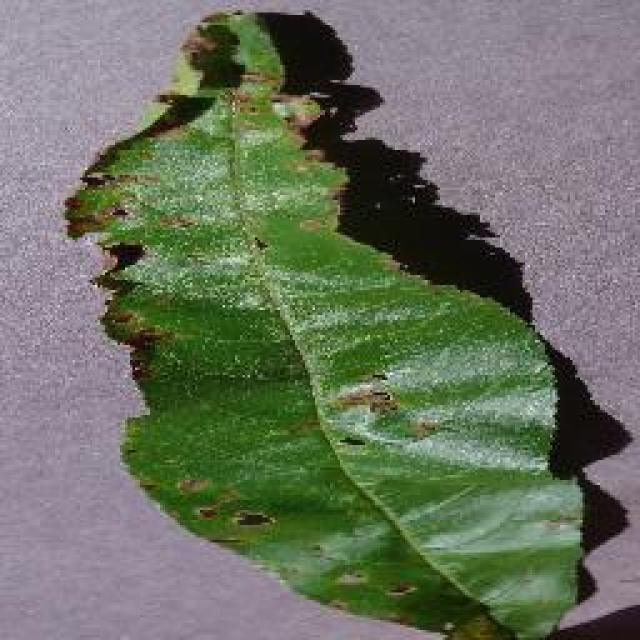Peach_Bacterial_Spot: (93, 35, 607, 628)
